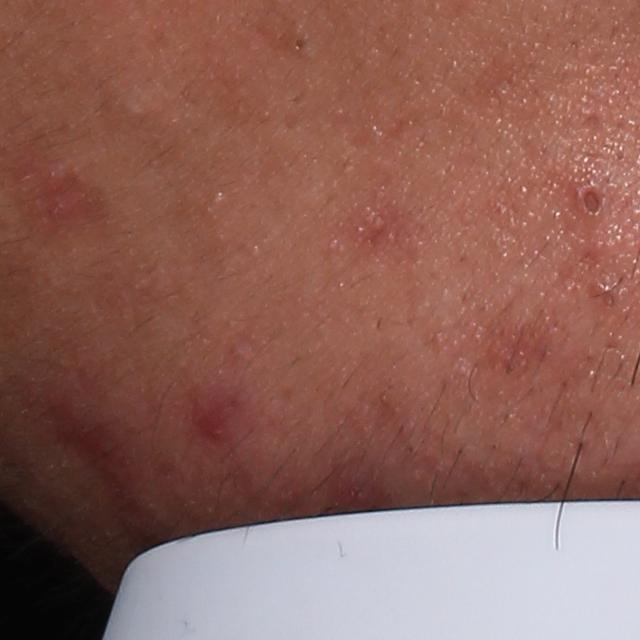comedo: (571, 173, 612, 226)
